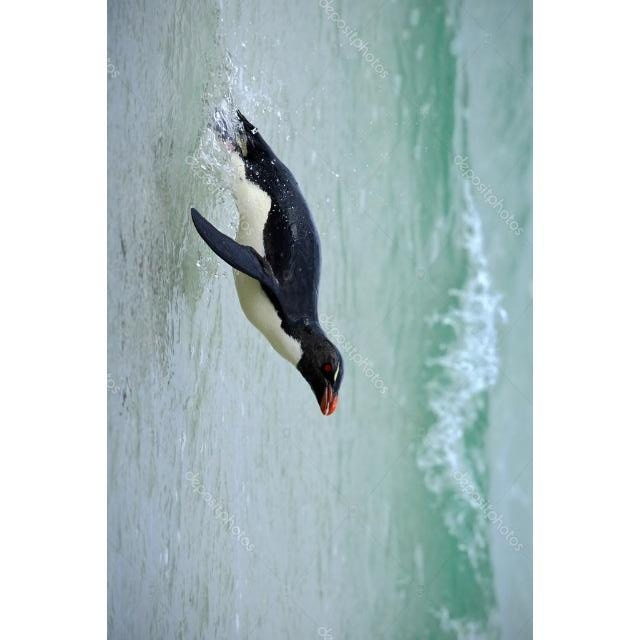penguin: (189, 108, 346, 418)
